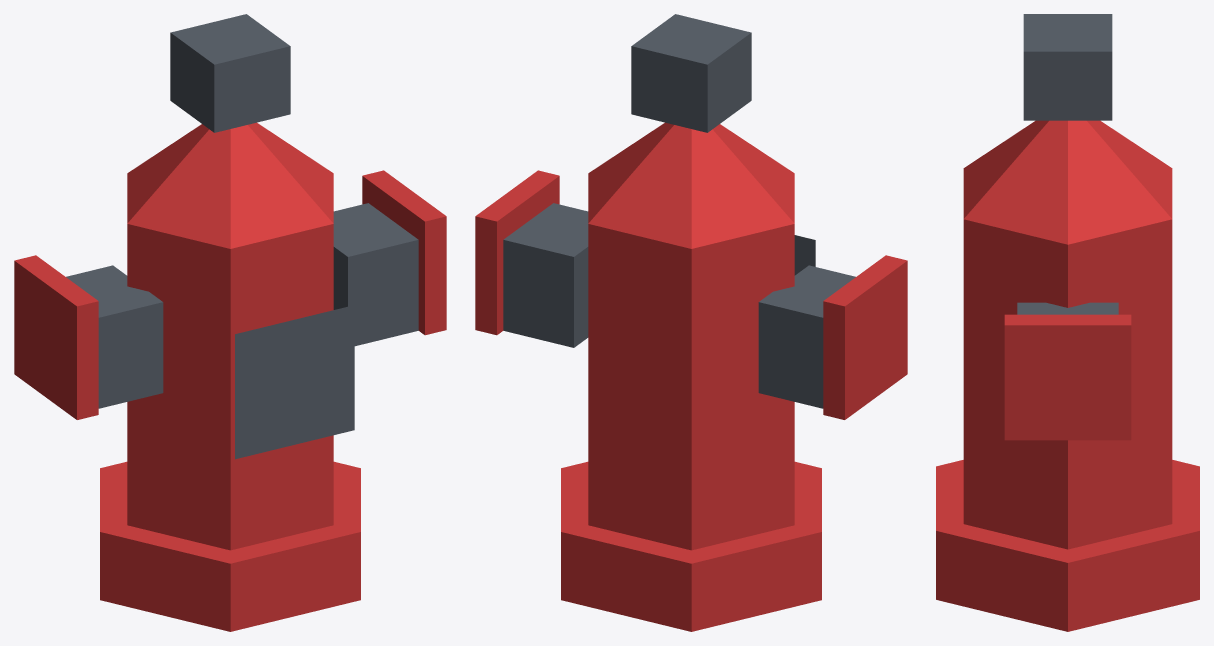
File: hydrant.glb
3 renders of one model, left to right at view 1: azimuth 30°, elevation 25°; view 2: azimuth 150°, elevation 25°; view 3: azimuth 270°, elevation 25°, orthographic.
Parts seen in each view (by area): view 1: hydrant; view 2: hydrant; view 3: hydrant.
Part boxes in pixels (x1,y1,x2,y2): hydrant: (14, 14, 446, 631); hydrant: (475, 14, 907, 631); hydrant: (936, 14, 1199, 631).
Size of the model in its own units: 0.068 by 0.093 by 0.0416.
